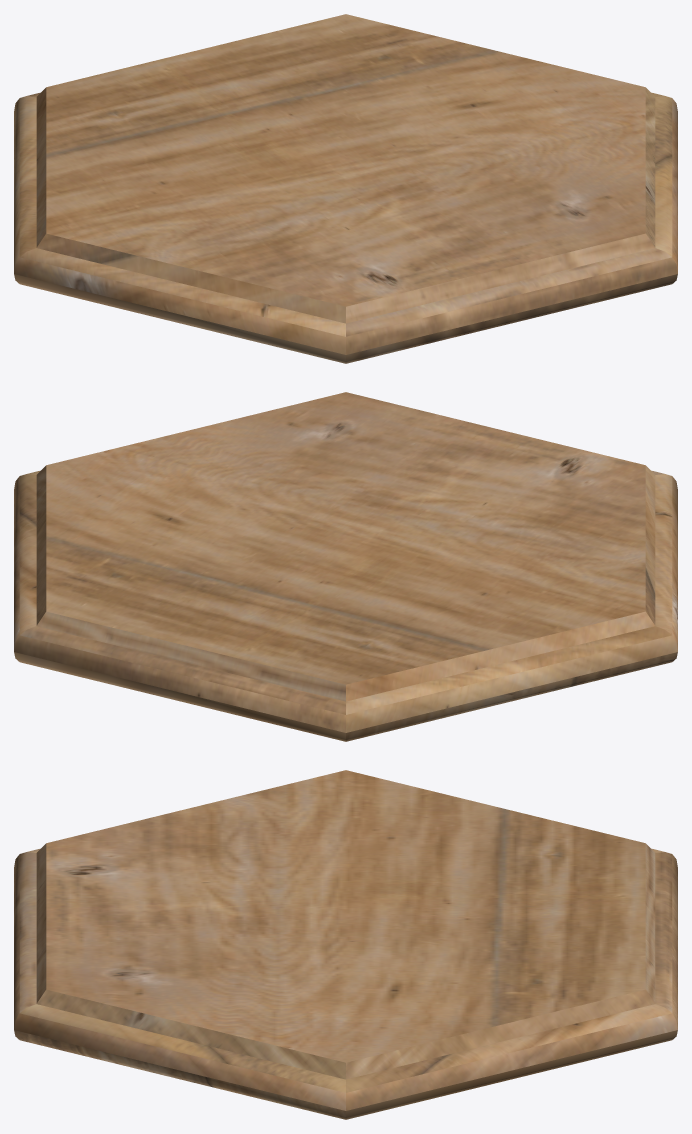
Rendered from stage.FBX.
3 renders of one model, top to bottom at view 1: azimuth 30°, elevation 25°; view 2: azimuth 150°, elevation 25°; view 3: azimuth 270°, elevation 25°, orthographic.
Visible parts, largest first — view 1: Cylinder001; view 2: Cylinder001; view 3: Cylinder001.
Boxes of the visible parts, left/top/right/bottom form: Cylinder001: left=14, top=14, right=677, bottom=363; Cylinder001: left=14, top=392, right=677, bottom=741; Cylinder001: left=14, top=770, right=677, bottom=1119.
Size of the model in its own units: 74.37 by 5.14 by 64.4.
